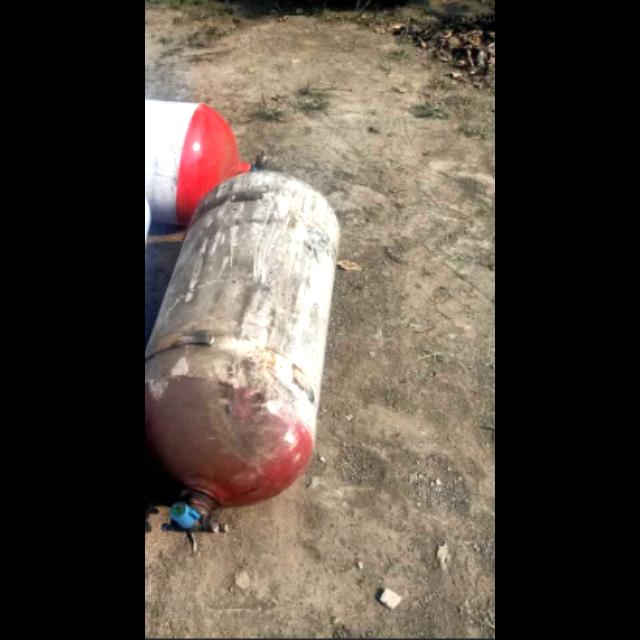Cylinders: (145, 165, 342, 538)
